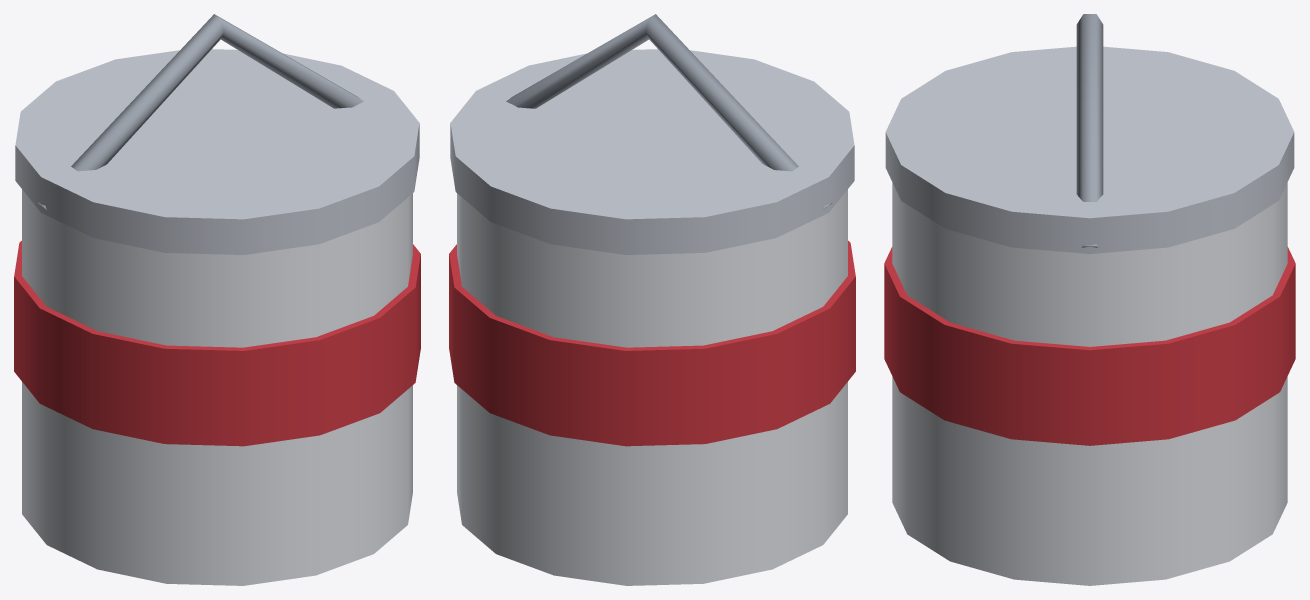
Rendered from paint_can.glb.
The picture shows the model from 3 angles, left to right: view 1: azimuth 30°, elevation 25°; view 2: azimuth 150°, elevation 25°; view 3: azimuth 270°, elevation 25°; orthographic projection.
Parts seen in each view (by area): view 1: root; view 2: root; view 3: root.
Boxes of the visible parts, bbox=[...] form: root: bbox=[14, 14, 420, 585]; root: bbox=[449, 14, 855, 585]; root: bbox=[884, 14, 1295, 585].
Size of the model in its own units: 0.312 by 0.4087 by 0.312.
